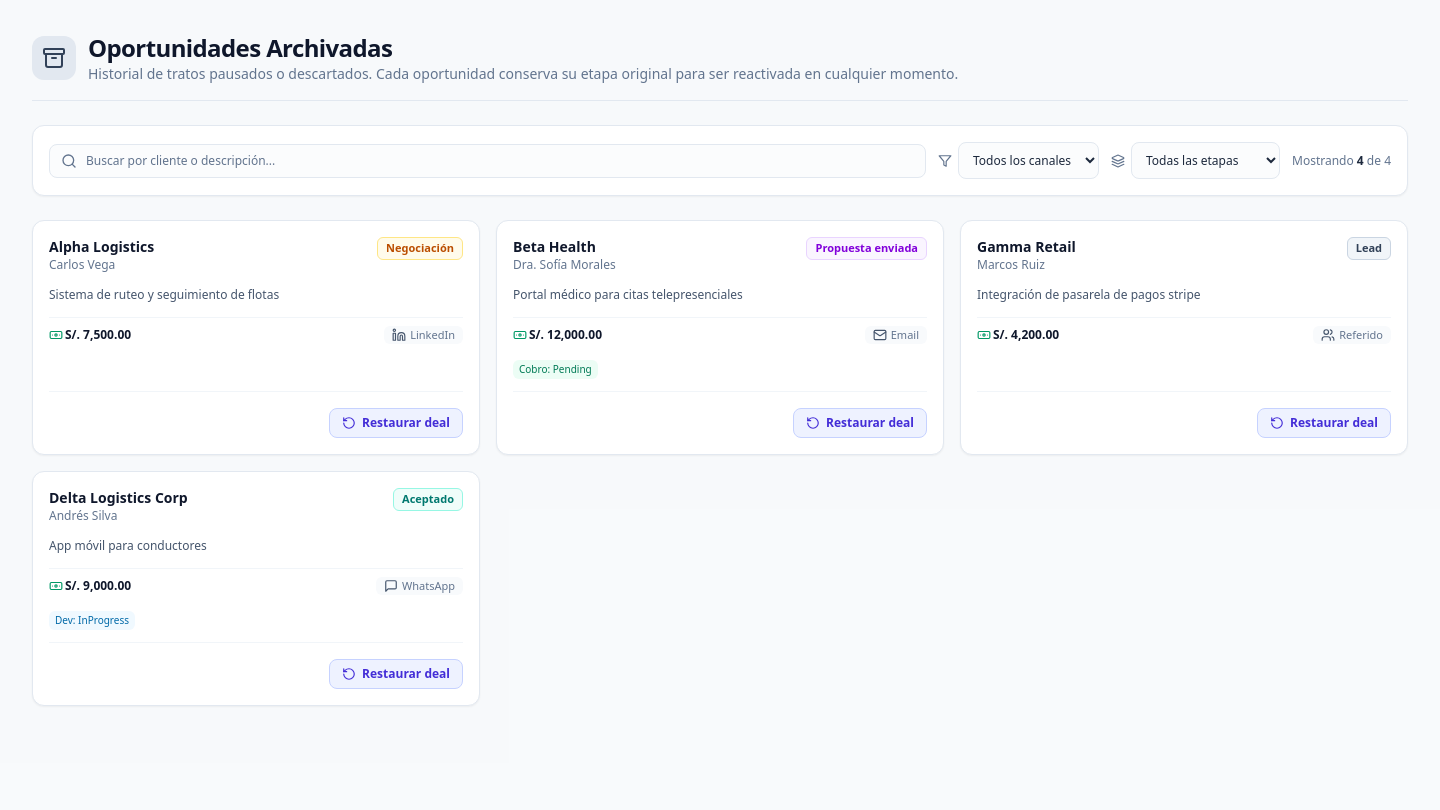
Test: Vista de Oportunidades Archivadas (/archive) › 3. Filtros y Búsqueda › filtra por etapa original de origen
Filtrar por ProposalSent
Select "Propuesta enviada" in the dropdown named "Filtrar por etapa original" at (1206, 160), box [1131,142,1280,179]
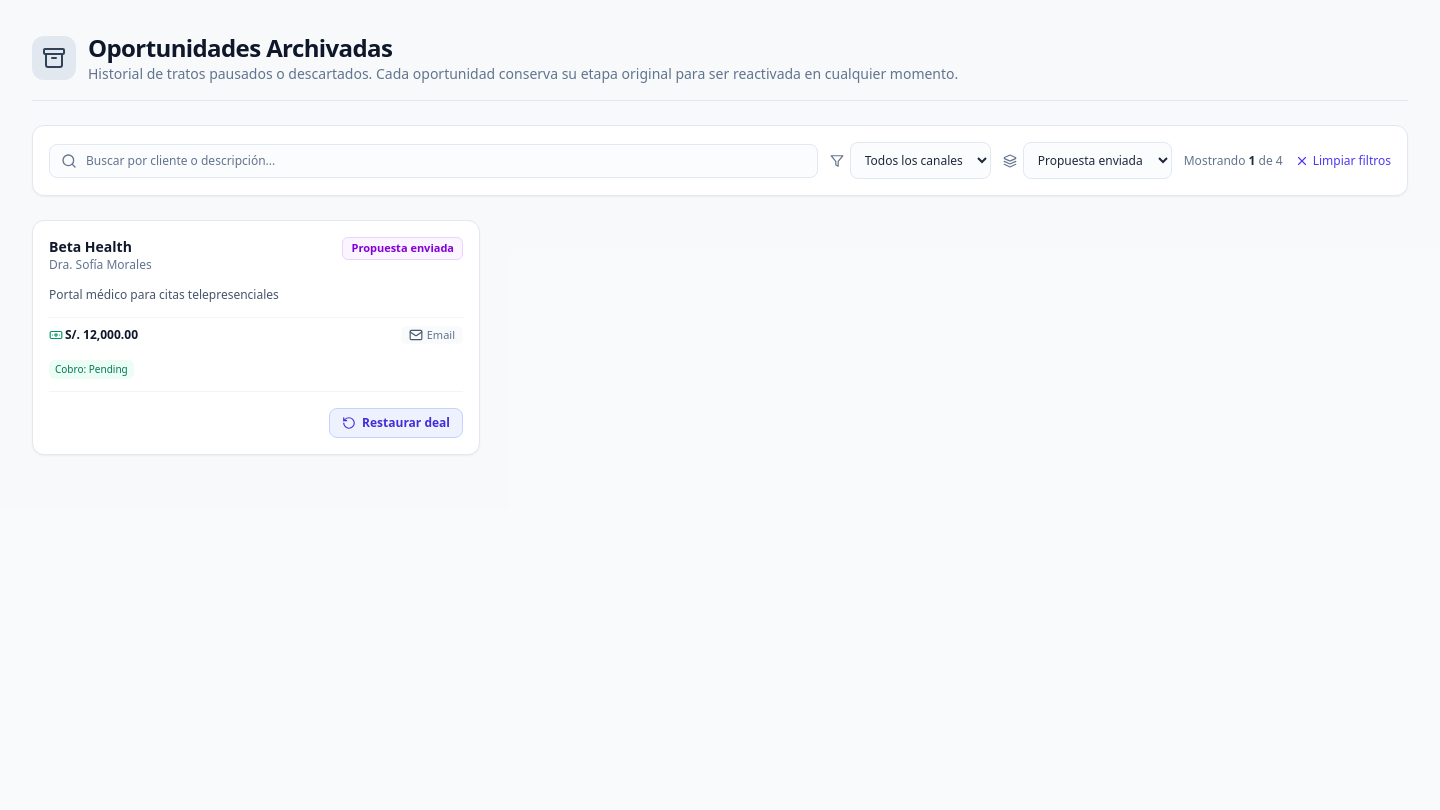
Check: the heading "Alpha Logistics" is gone
Check: the heading "Gamma Retail" is gone
Check: the heading "Delta Logistics Corp" is gone
